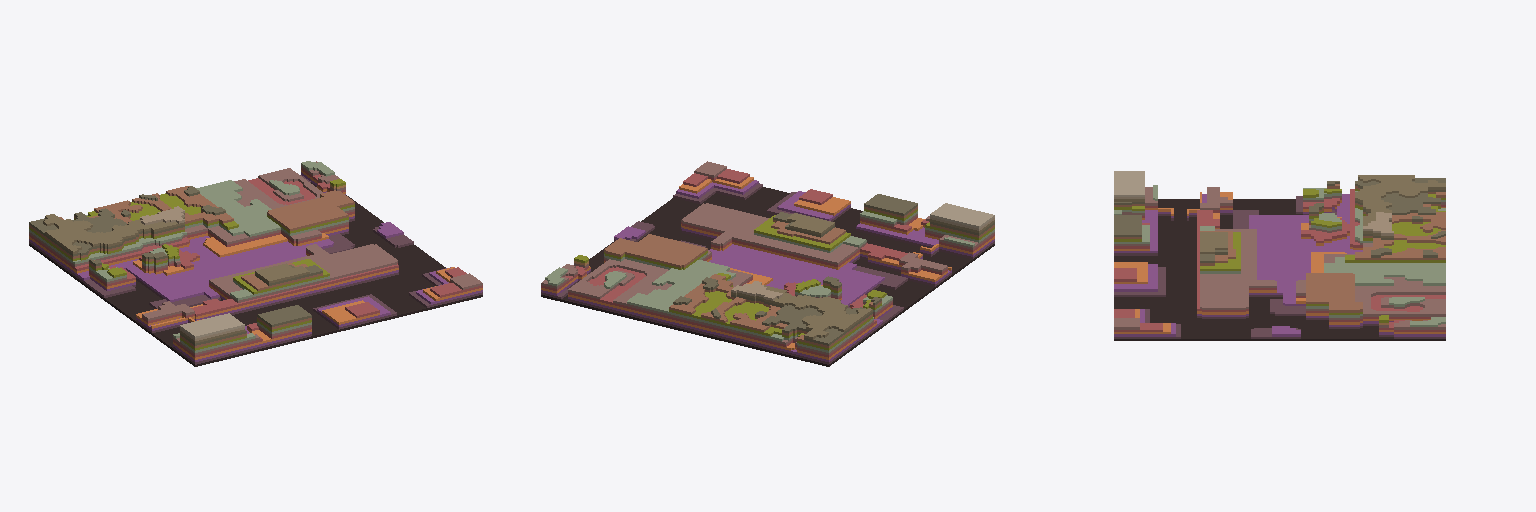
3 renders of one model, left to right at view 1: azimuth 30°, elevation 25°; view 2: azimuth 150°, elevation 25°; view 3: azimuth 270°, elevation 25°, orthographic.
Visible parts, largest first — view 1: tutorial-level; view 2: tutorial-level; view 3: tutorial-level.
Boxes of the visible parts, box(x1,y1,x2,y2) form: tutorial-level: box(29, 161, 482, 366); tutorial-level: box(541, 161, 994, 366); tutorial-level: box(1114, 171, 1445, 340).
Size of the model in its own units: 12.8 by 1.3 by 12.8.
1 materials, 1 textured.